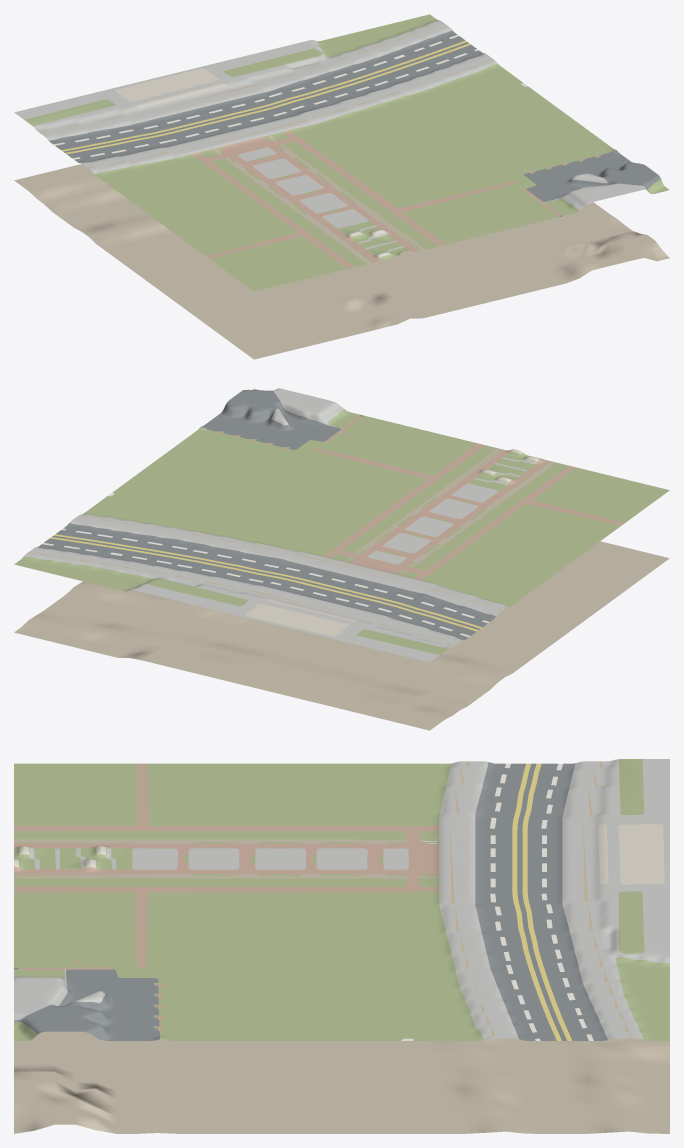
3 renders of one model, top to bottom at view 1: azimuth 30°, elevation 25°; view 2: azimuth 150°, elevation 25°; view 3: azimuth 270°, elevation 25°, orthographic. The views are drawn at different scales.
Parts seen in each view (by area): view 1: s_-1_-3__grass, s_-1_-3__soil, s_-1_-3__stone_paving, s_-1_-3__asphalt, s_-1_-3__brick_paving, s_-1_-3__yellow_marking, s_-1_-3__paving, s_-1_-3__white_marking, s_-1_-3__timber_deck; view 2: s_-1_-3__grass, s_-1_-3__soil, s_-1_-3__stone_paving, s_-1_-3__asphalt, s_-1_-3__brick_paving, s_-1_-3__yellow_marking, s_-1_-3__paving, s_-1_-3__white_marking, s_-1_-3__timber_deck; view 3: s_-1_-3__grass, s_-1_-3__soil, s_-1_-3__stone_paving, s_-1_-3__asphalt, s_-1_-3__brick_paving, s_-1_-3__paving, s_-1_-3__yellow_marking, s_-1_-3__white_marking, s_-1_-3__timber_deck.
Part boxes in pixels (x1,y1,x2,y2): s_-1_-3__grass: (24, 14, 669, 291); s_-1_-3__soil: (14, 135, 669, 359); s_-1_-3__stone_paving: (14, 20, 647, 255); s_-1_-3__asphalt: (49, 30, 660, 216); s_-1_-3__brick_paving: (191, 130, 615, 268); s_-1_-3__yellow_marking: (61, 40, 470, 154); s_-1_-3__paving: (115, 68, 411, 257); s_-1_-3__white_marking: (53, 34, 527, 159); s_-1_-3__timber_deck: (39, 23, 490, 168); s_-1_-3__grass: (14, 389, 669, 655); s_-1_-3__soil: (14, 448, 669, 730); s_-1_-3__stone_paving: (24, 388, 536, 662); s_-1_-3__asphalt: (37, 389, 495, 639); s_-1_-3__brick_paving: (200, 416, 624, 580); s_-1_-3__yellow_marking: (50, 534, 481, 631); s_-1_-3__paving: (245, 449, 540, 636); s_-1_-3__white_marking: (42, 492, 489, 637); s_-1_-3__timber_deck: (28, 516, 503, 645); s_-1_-3__grass: (14, 759, 669, 1040); s_-1_-3__soil: (14, 839, 669, 1133); s_-1_-3__stone_paving: (14, 759, 669, 1040); s_-1_-3__asphalt: (14, 762, 607, 1040); s_-1_-3__brick_paving: (14, 763, 439, 1039); s_-1_-3__paving: (14, 824, 664, 884); s_-1_-3__yellow_marking: (512, 763, 572, 1040); s_-1_-3__white_marking: (401, 763, 593, 1040); s_-1_-3__timber_deck: (449, 761, 631, 1038).
Bounding box in the file's own units: 128 × 22.01 × 128.
